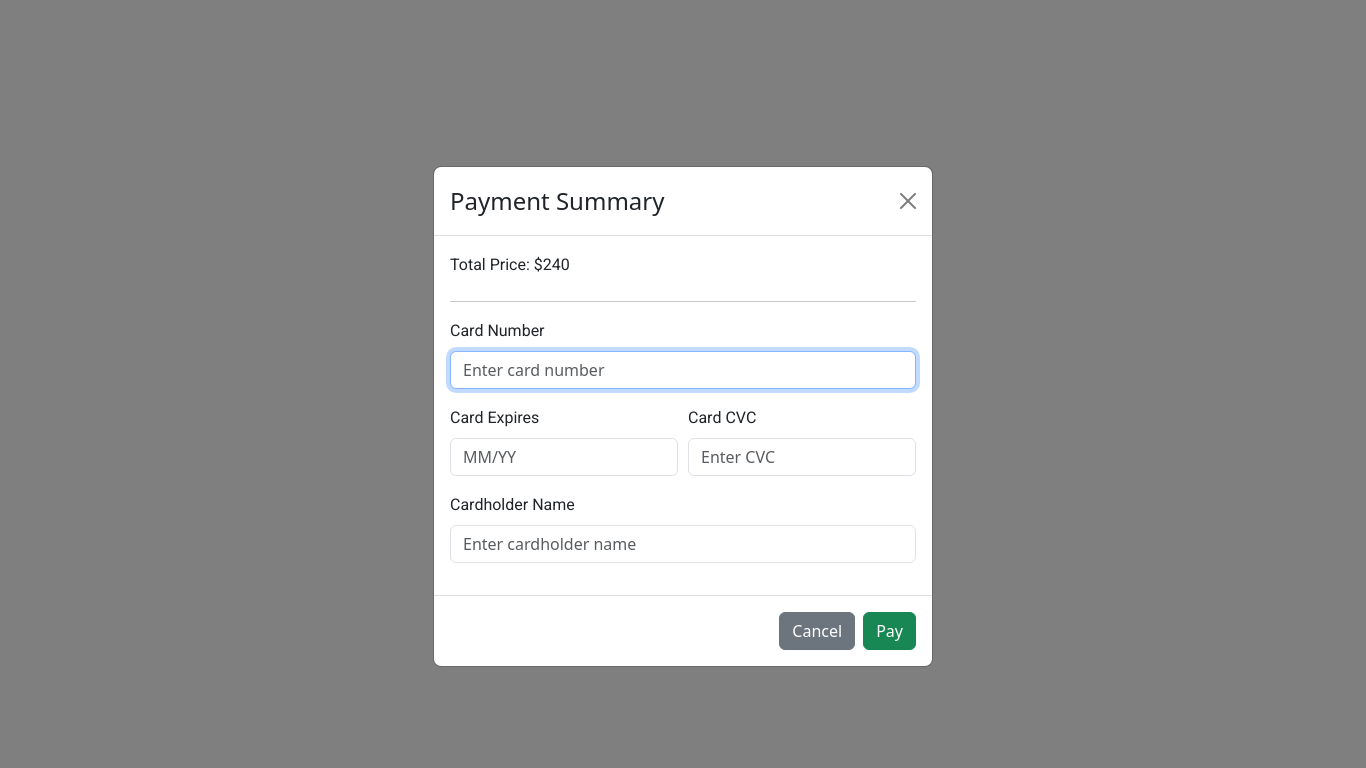
Scenario: PaymentForm Component › shows error messages for invalid card number, expiration date, and CVC
In the field with placeholder "Enter card number": (683, 370) [450, 350, 916, 388], type "1234 5678 9012 123"
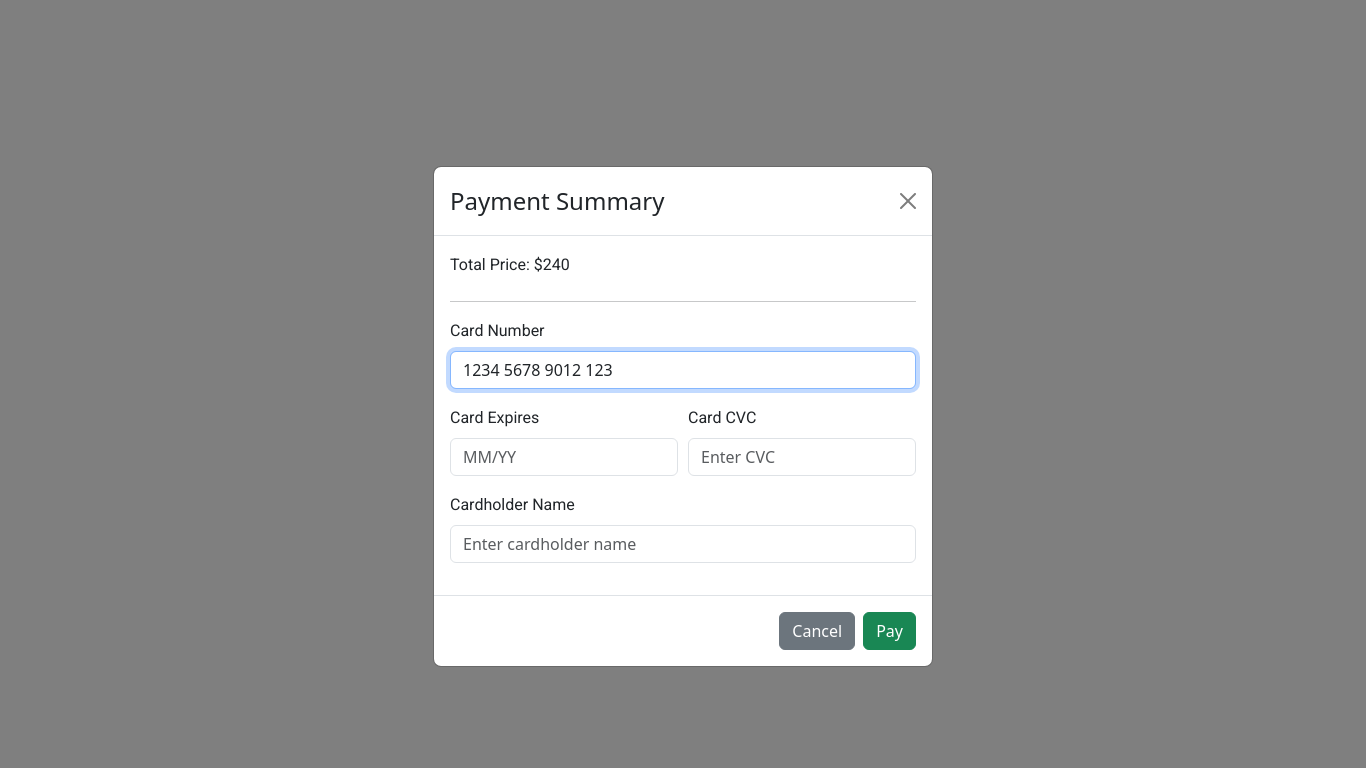
In the field with placeholder "MM/YY": (564, 456) [450, 438, 678, 476], type "12/23"
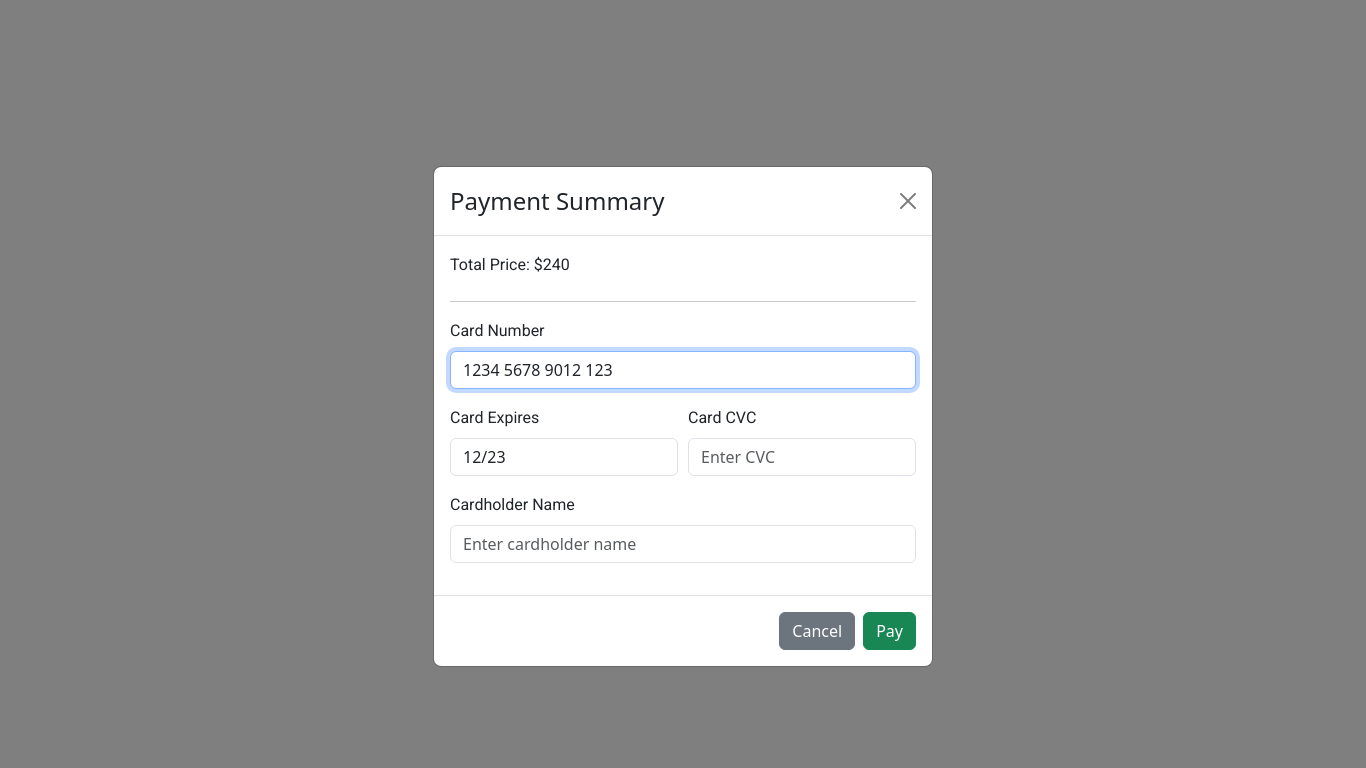
In the field with placeholder "Enter CVC": (802, 456) [688, 438, 916, 476], type "12345"
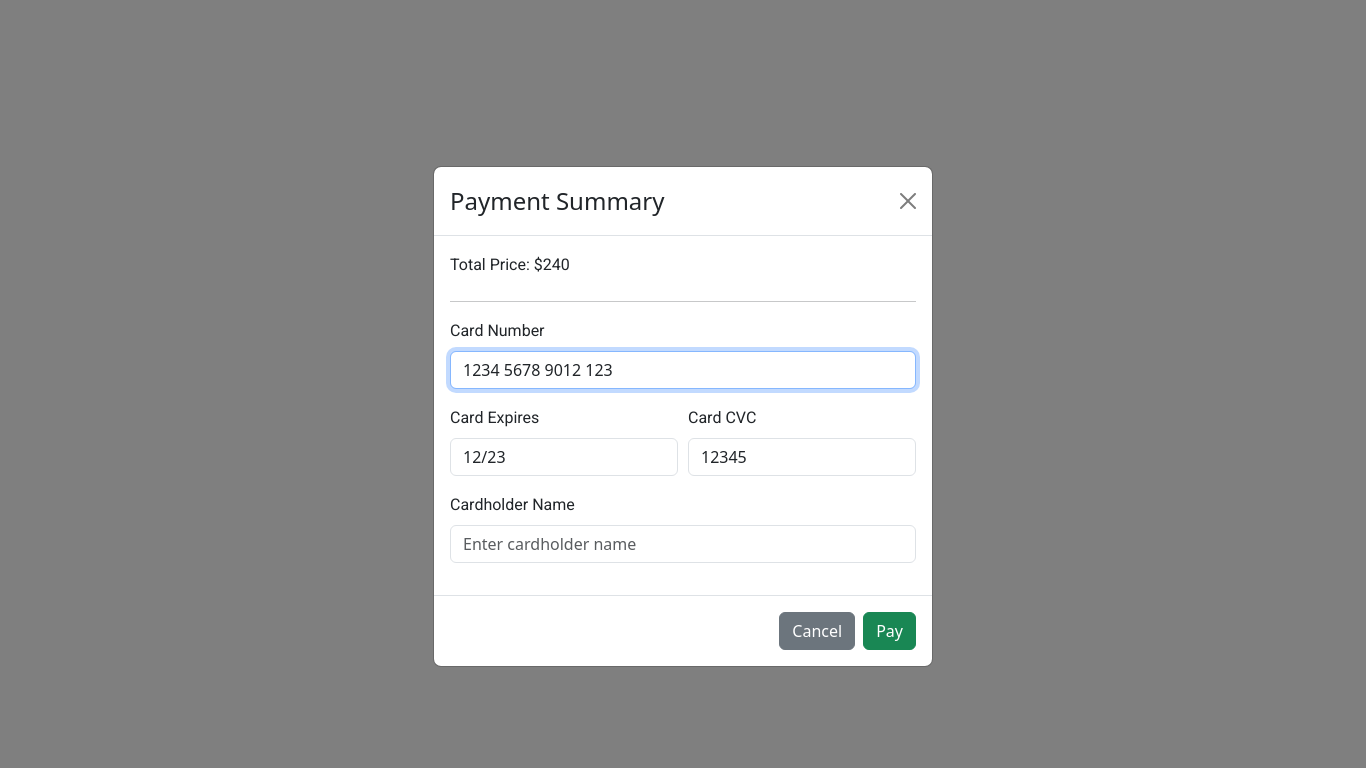
In the field with placeholder "Enter cardholder name": (683, 544) [450, 524, 916, 562], type "Jo Smith"
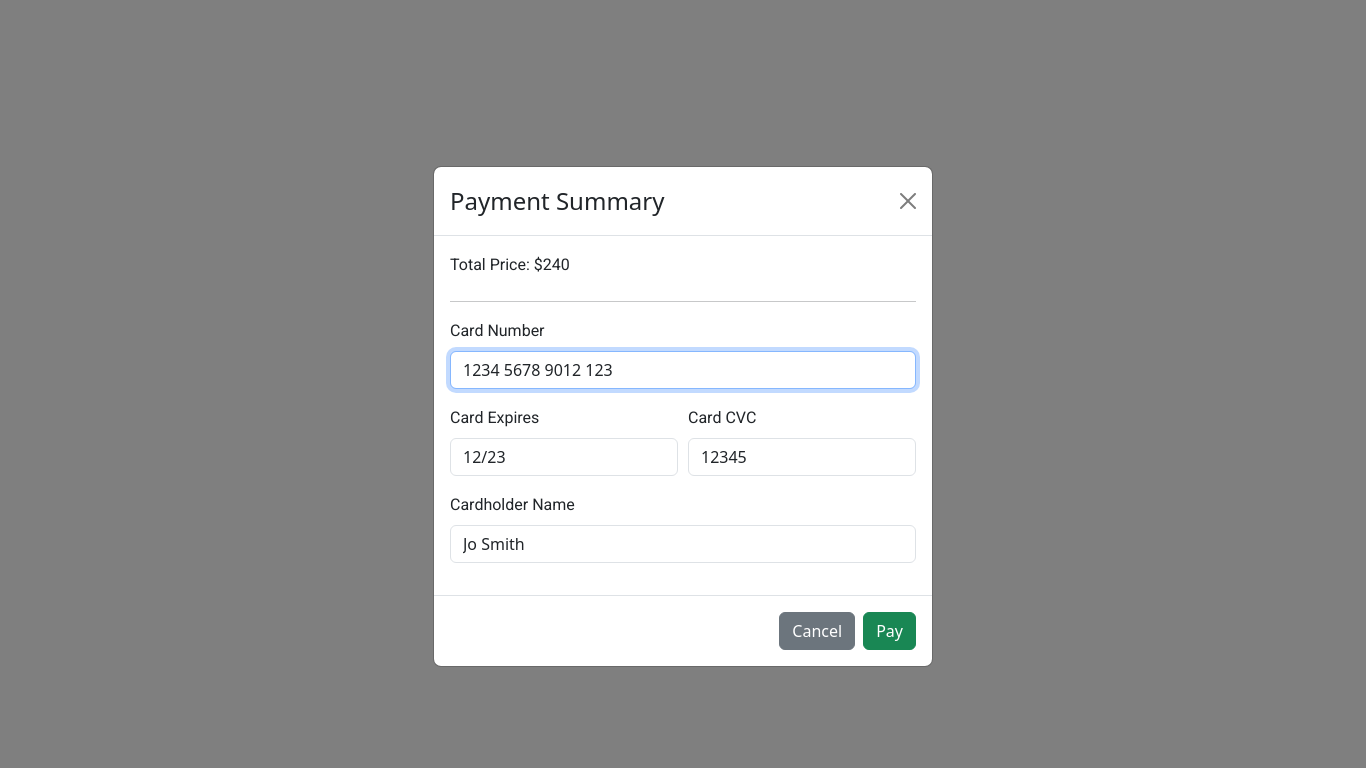
Click the button "Pay": (890, 630) [863, 612, 916, 650]
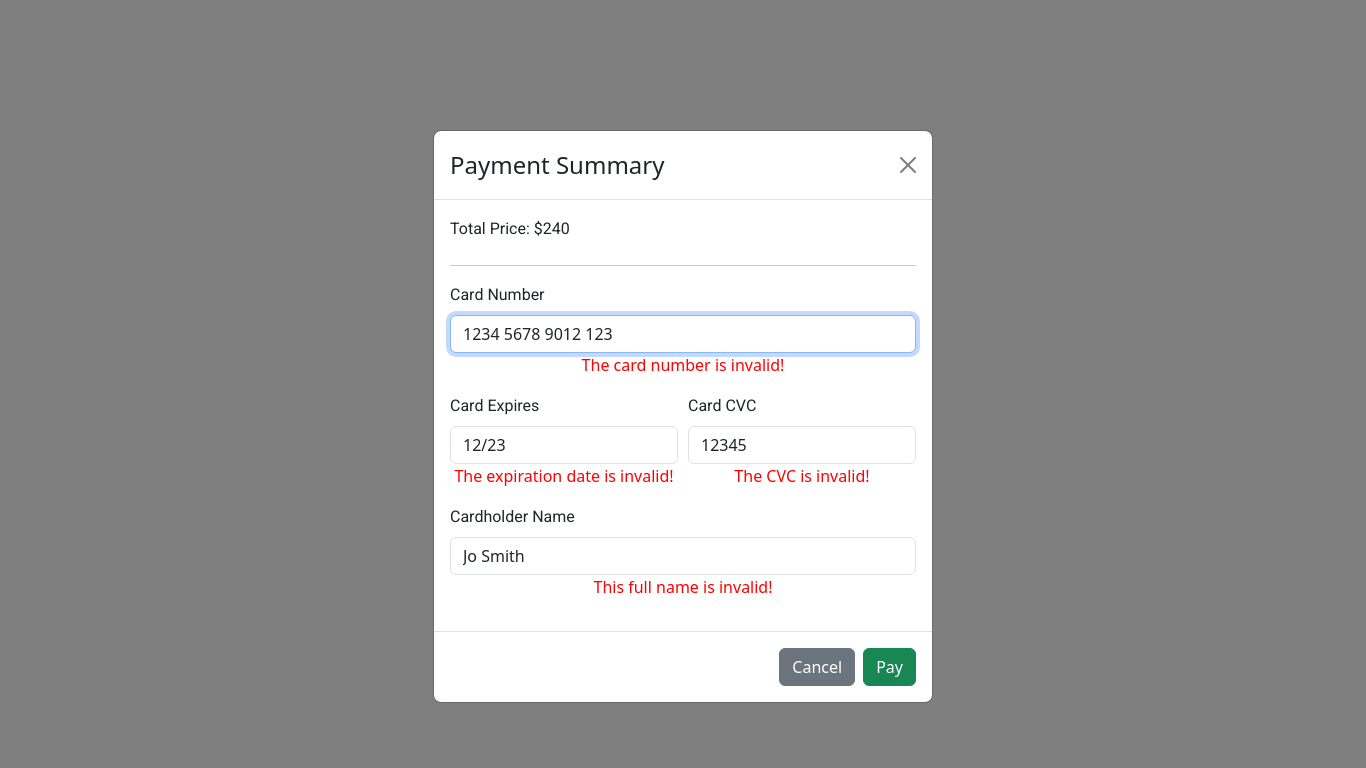
Now the text "This full name is invalid!" is shown, box [594, 576, 772, 598]
Now the text "The card number is invalid!" is shown, box [582, 354, 784, 376]
Now the text "The expiration date is invalid!" is shown, box [450, 464, 678, 488]
